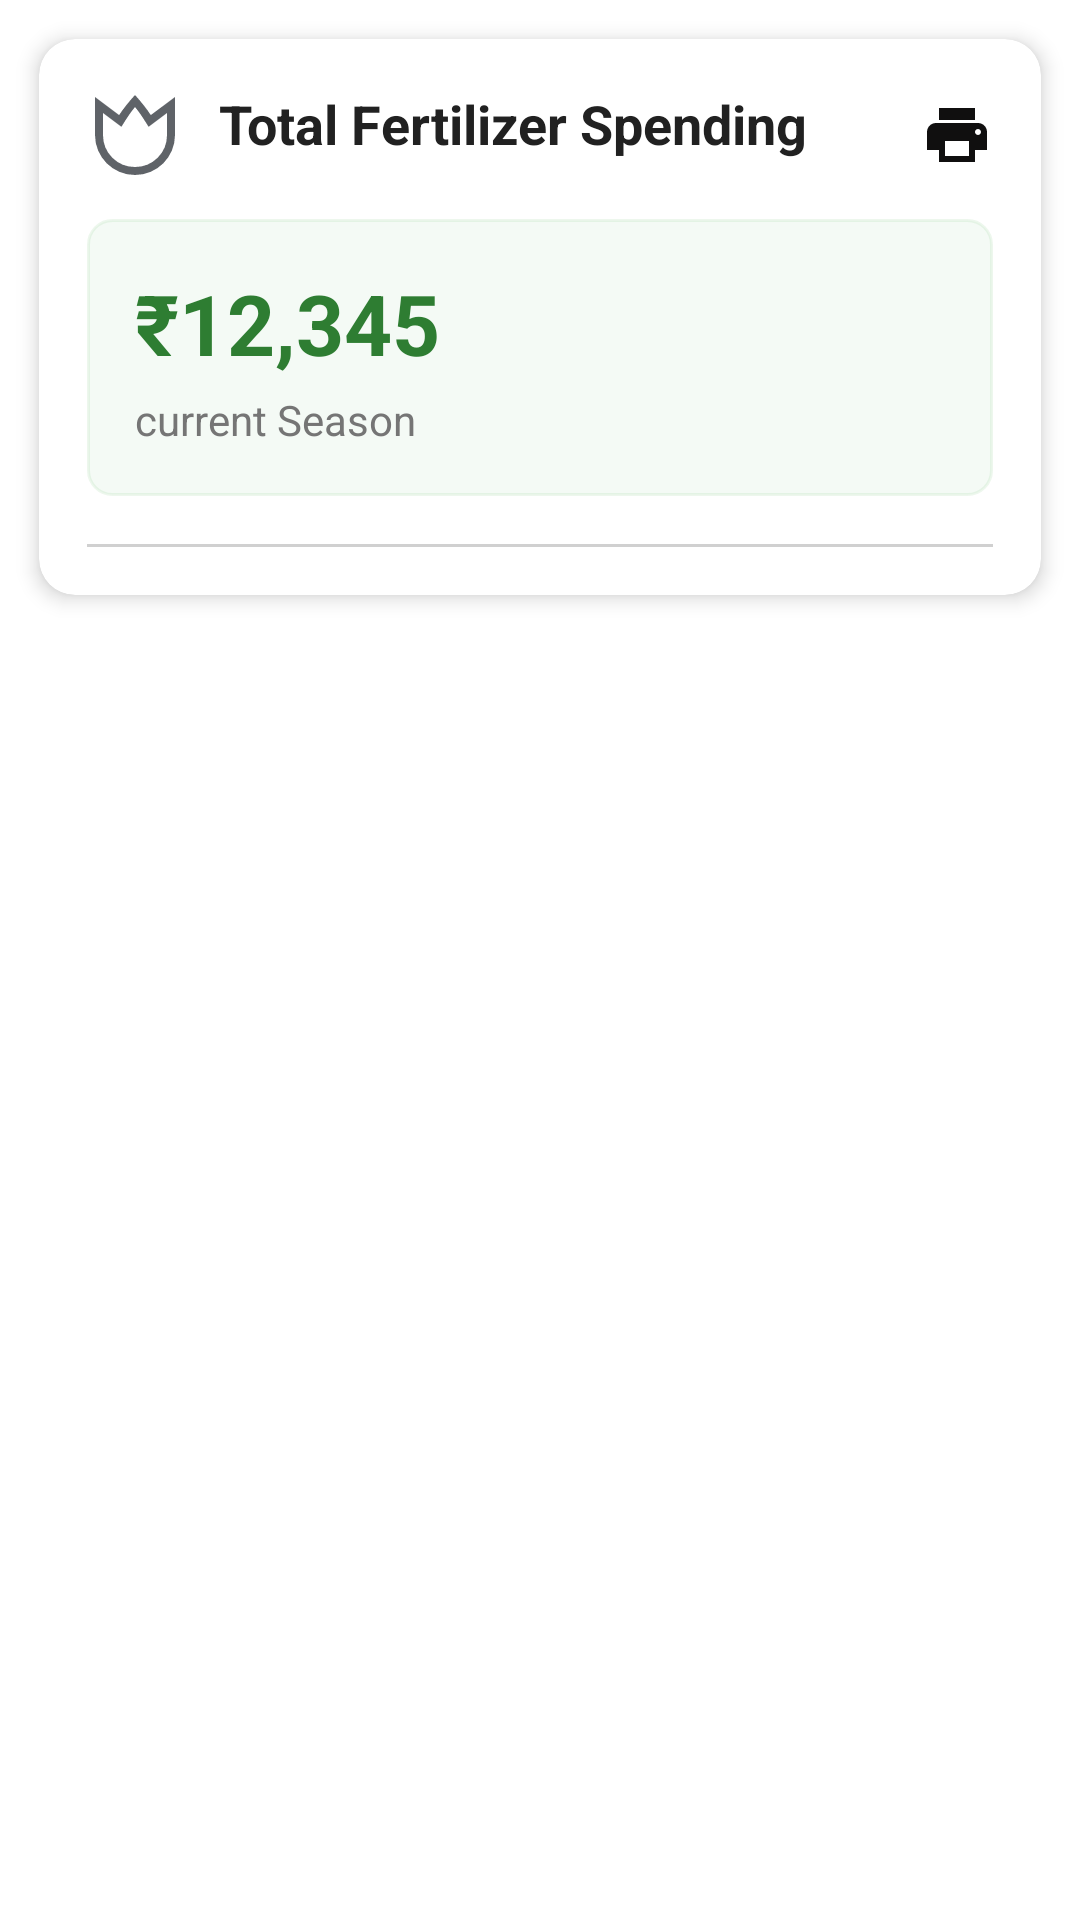

Named icons in this screenshot (1080x1920) and their centers, [x,y]:
print: [957,135]
